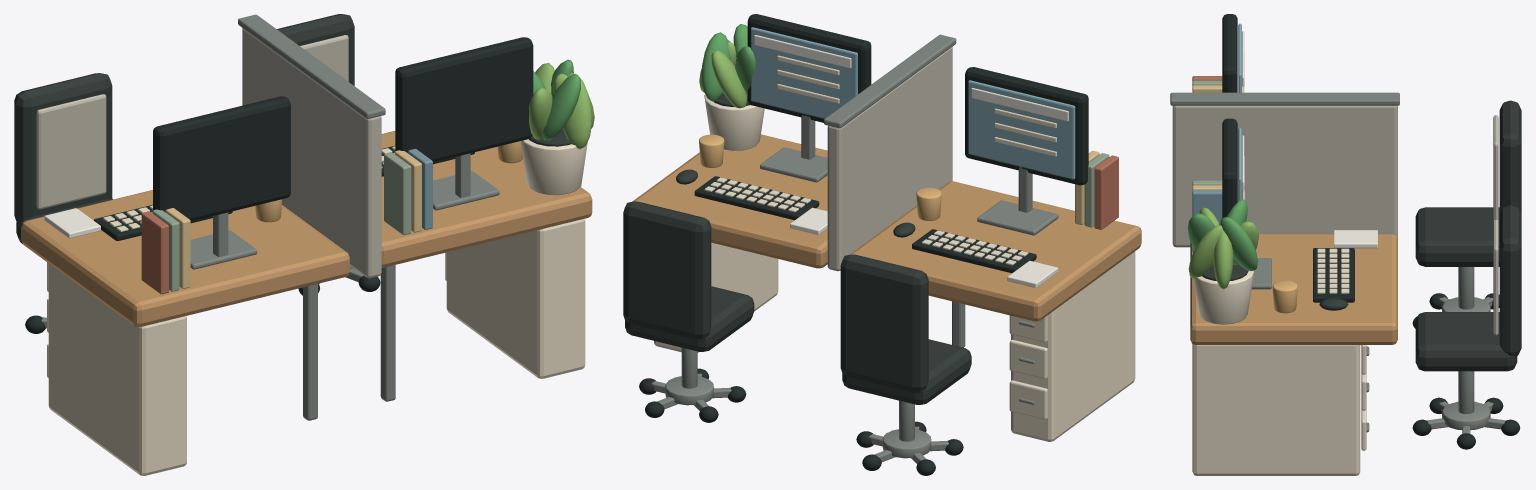
The model's file is workstation-v1.glb.
3 renders of one model, left to right at view 1: azimuth 30°, elevation 25°; view 2: azimuth 150°, elevation 25°; view 3: azimuth 270°, elevation 25°, orthographic. The views are drawn at different scales.
Parts seen in each view (by area): view 1: AirportOpsEscape_Workstation_v1_pedestal, AirportOpsEscape_Workstation_v1_desktop, AirportOpsEscape_Workstation_v1_pedestal.001, AirportOpsEscape_Workstation_v1_divider, AirportOpsEscape_Workstation_v1_monitor_frame, AirportOpsEscape_Workstation_v1_monitor_frame.001, AirportOpsEscape_Workstation_v1_desktop.001, AirportOpsEscape_Workstation_v1_chair_back_inset, AirportOpsEscape_Workstation_v1_chair_back, AirportOpsEscape_Workstation_v1_divider_cap, AirportOpsEscape_Workstation_v1_pot, AirportOpsEscape_Workstation_v1_desk_leg.001 (+18 smaller); view 2: AirportOpsEscape_Workstation_v1_desktop, AirportOpsEscape_Workstation_v1_divider, AirportOpsEscape_Workstation_v1_pedestal, AirportOpsEscape_Workstation_v1_chair_back, AirportOpsEscape_Workstation_v1_chair_back.001, AirportOpsEscape_Workstation_v1_desktop.001, AirportOpsEscape_Workstation_v1_monitor_screen, AirportOpsEscape_Workstation_v1_monitor_screen.001, AirportOpsEscape_Workstation_v1_monitor_frame, AirportOpsEscape_Workstation_v1_pedestal.001, AirportOpsEscape_Workstation_v1_seat, AirportOpsEscape_Workstation_v1_seat.001 (+28 smaller); view 3: AirportOpsEscape_Workstation_v1_divider, AirportOpsEscape_Workstation_v1_pedestal.001, AirportOpsEscape_Workstation_v1_desktop.001, AirportOpsEscape_Workstation_v1_seat.001, AirportOpsEscape_Workstation_v1_seat, AirportOpsEscape_Workstation_v1_chair_back.001, AirportOpsEscape_Workstation_v1_divider_cap, AirportOpsEscape_Workstation_v1_chair_back, AirportOpsEscape_Workstation_v1_pot, AirportOpsEscape_Workstation_v1_monitor_frame.001, AirportOpsEscape_Workstation_v1_keyboard.001, AirportOpsEscape_Workstation_v1_monitor_frame (+14 smaller).
Part boxes in pixels (box(x1,y1,x2,y2)): AirportOpsEscape_Workstation_v1_pedestal: box(48, 264, 186, 475); AirportOpsEscape_Workstation_v1_desktop: box(21, 190, 349, 326); AirportOpsEscape_Workstation_v1_pedestal.001: box(446, 219, 585, 378); AirportOpsEscape_Workstation_v1_divider: box(242, 28, 381, 278); AirportOpsEscape_Workstation_v1_monitor_frame: box(153, 96, 290, 221); AirportOpsEscape_Workstation_v1_monitor_frame.001: box(395, 37, 533, 162); AirportOpsEscape_Workstation_v1_desktop.001: box(381, 131, 592, 267); AirportOpsEscape_Workstation_v1_chair_back_inset: box(36, 94, 106, 209); AirportOpsEscape_Workstation_v1_chair_back: box(14, 73, 112, 222); AirportOpsEscape_Workstation_v1_divider_cap: box(238, 14, 385, 118); AirportOpsEscape_Workstation_v1_pot: box(520, 139, 587, 195); AirportOpsEscape_Workstation_v1_desk_leg.001: box(380, 265, 395, 401); AirportOpsEscape_Workstation_v1_desktop: box(849, 181, 1141, 321); AirportOpsEscape_Workstation_v1_divider: box(827, 47, 952, 271); AirportOpsEscape_Workstation_v1_pedestal: box(1011, 251, 1135, 441); AirportOpsEscape_Workstation_v1_chair_back: box(840, 254, 928, 392); AirportOpsEscape_Workstation_v1_chair_back.001: box(623, 201, 711, 339); AirportOpsEscape_Workstation_v1_desktop.001: box(632, 134, 827, 268); AirportOpsEscape_Workstation_v1_monitor_screen: box(968, 80, 1075, 179); AirportOpsEscape_Workstation_v1_monitor_screen.001: box(751, 27, 857, 118); AirportOpsEscape_Workstation_v1_monitor_frame: box(965, 67, 1088, 185); AirportOpsEscape_Workstation_v1_pedestal.001: box(654, 242, 778, 352); AirportOpsEscape_Workstation_v1_seat: box(842, 339, 971, 404); AirportOpsEscape_Workstation_v1_seat.001: box(625, 286, 754, 351); AirportOpsEscape_Workstation_v1_divider: box(1172, 105, 1397, 247); AirportOpsEscape_Workstation_v1_pedestal.001: box(1192, 344, 1360, 475); AirportOpsEscape_Workstation_v1_desktop.001: box(1190, 234, 1397, 344); AirportOpsEscape_Workstation_v1_seat.001: box(1415, 312, 1517, 371); AirportOpsEscape_Workstation_v1_seat: box(1415, 207, 1499, 266); AirportOpsEscape_Workstation_v1_chair_back.001: box(1499, 205, 1521, 356); AirportOpsEscape_Workstation_v1_divider_cap: box(1170, 92, 1399, 105); AirportOpsEscape_Workstation_v1_chair_back: box(1499, 100, 1521, 214); AirportOpsEscape_Workstation_v1_pot: box(1193, 270, 1253, 324); AirportOpsEscape_Workstation_v1_monitor_frame.001: box(1222, 118, 1237, 218); AirportOpsEscape_Workstation_v1_keyboard.001: box(1313, 248, 1354, 302); AirportOpsEscape_Workstation_v1_monitor_frame: box(1222, 14, 1237, 92).
Bounding box in the file's own units: 1.1 × 0.72 × 0.795.
